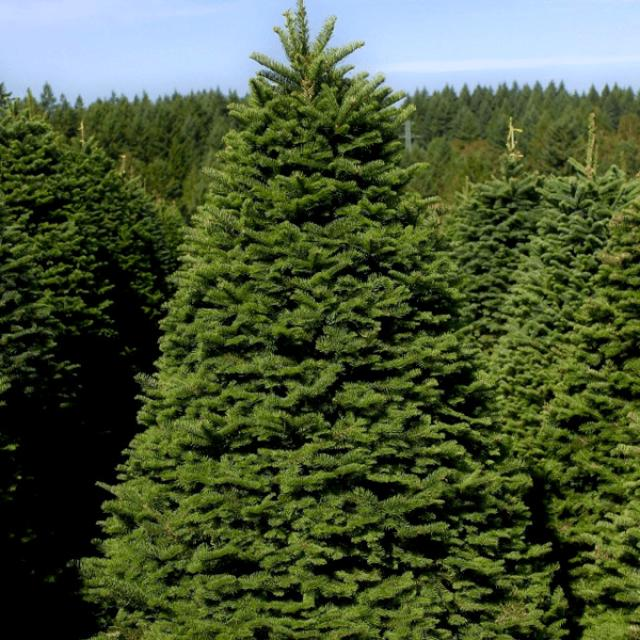Abies: (81, 4, 581, 640)
